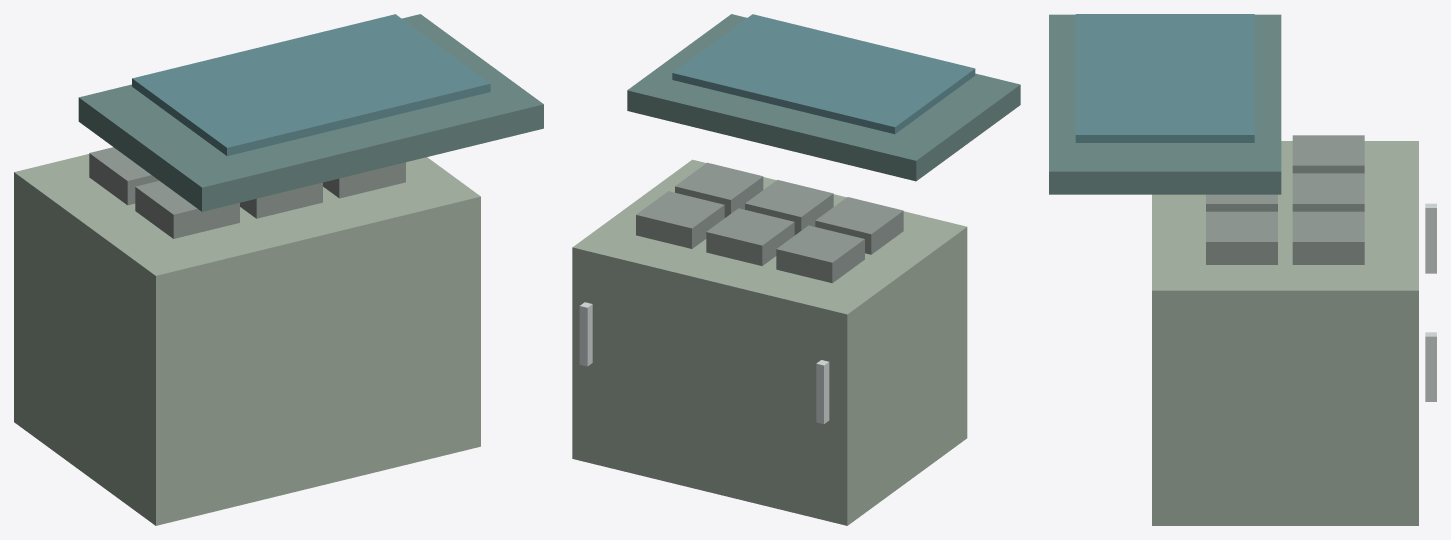
The model's file is s7-e0e1-cn03-open-seed-kit.glb.
3 renders of one model, left to right at view 1: azimuth 30°, elevation 25°; view 2: azimuth 150°, elevation 25°; view 3: azimuth 270°, elevation 25°, orthographic. The views are drawn at different scales.
Parts seen in each view (by area): view 1: lidded-storage-container-000, lid-surface-002, opened-lid-001, seed-organizer-cell-004, seed-organizer-cell-003, seed-organizer-cell-008, seed-organizer-cell-006; view 2: lidded-storage-container-000, lid-surface-002, opened-lid-001, seed-organizer-cell-003, seed-organizer-cell-007, seed-organizer-cell-005, seed-organizer-cell-004, seed-organizer-cell-006, seed-organizer-cell-008, box-handle-009, box-handle-010; view 3: lidded-storage-container-000, lid-surface-002, opened-lid-001, seed-organizer-cell-007, seed-organizer-cell-008, seed-organizer-cell-005, seed-organizer-cell-003, seed-organizer-cell-006, box-handle-009, box-handle-010.
Boxes of the visible parts, left/top/right/bottom form: lidded-storage-container-000: left=14, top=154, right=480, bottom=525; lid-surface-002: left=132, top=14, right=490, bottom=156; opened-lid-001: left=78, top=14, right=543, bottom=211; seed-organizer-cell-004: left=135, top=181, right=239, bottom=238; seed-organizer-cell-003: left=89, top=147, right=158, bottom=205; seed-organizer-cell-008: left=323, top=162, right=405, bottom=198; seed-organizer-cell-006: left=240, top=182, right=322, bottom=218; lidded-storage-container-000: left=572, top=159, right=967, bottom=525; lid-surface-002: left=672, top=14, right=975, bottom=134; opened-lid-001: left=627, top=14, right=1020, bottom=181; seed-organizer-cell-003: left=776, top=225, right=864, bottom=283; seed-organizer-cell-007: left=636, top=191, right=724, bottom=248; seed-organizer-cell-005: left=706, top=208, right=794, bottom=265; seed-organizer-cell-004: left=815, top=197, right=903, bottom=254; seed-organizer-cell-006: left=745, top=180, right=833, bottom=235; seed-organizer-cell-008: left=675, top=162, right=763, bottom=217; box-handle-009: left=816, top=360, right=829, bottom=424; box-handle-010: left=579, top=302, right=592, bottom=366; lidded-storage-container-000: left=1152, top=141, right=1418, bottom=525; lid-surface-002: left=1075, top=14, right=1254, bottom=142; opened-lid-001: left=1049, top=14, right=1281, bottom=194; seed-organizer-cell-007: left=1292, top=211, right=1364, bottom=264; seed-organizer-cell-008: left=1206, top=211, right=1277, bottom=264; seed-organizer-cell-005: left=1292, top=173, right=1364, bottom=211; seed-organizer-cell-003: left=1292, top=135, right=1364, bottom=173; seed-organizer-cell-006: left=1206, top=194, right=1277, bottom=211; box-handle-009: left=1425, top=203, right=1436, bottom=273; box-handle-010: left=1425, top=332, right=1436, bottom=401.
Size of the model in its own units: 0.515 by 0.576 by 0.5375.
